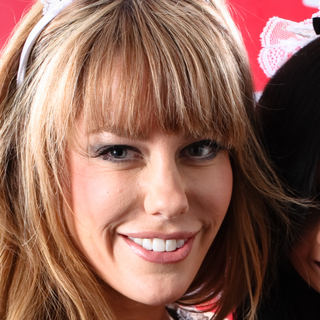eye: (88, 141, 147, 167), (174, 138, 223, 162)
